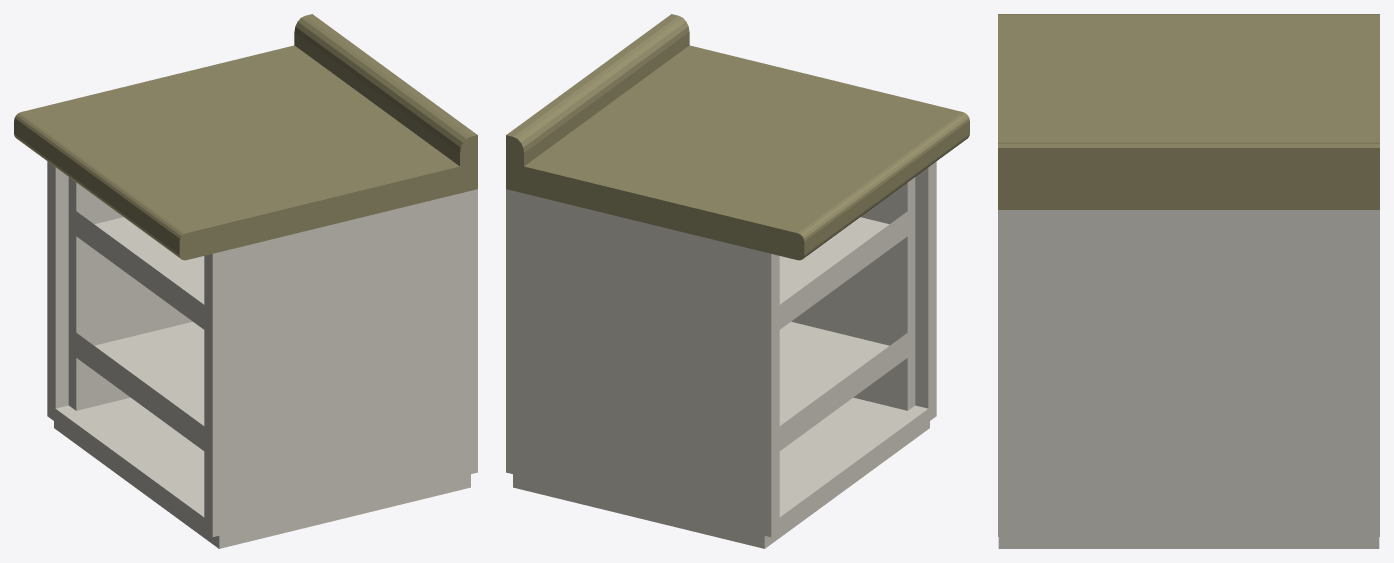
Rendered from BasicCounter2.fbx.
3 renders of one model, left to right at view 1: azimuth 30°, elevation 25°; view 2: azimuth 150°, elevation 25°; view 3: azimuth 270°, elevation 25°, orthographic. The views are drawn at different scales.
Parts seen in each view (by area): view 1: Counter2; view 2: Counter2; view 3: Counter2.
Boxes of the visible parts, box(x1,y1,x2,y2) form: Counter2: box(14, 14, 477, 548); Counter2: box(506, 14, 969, 548); Counter2: box(998, 14, 1379, 548).
Size of the model in its own units: 104 by 117 by 100.
